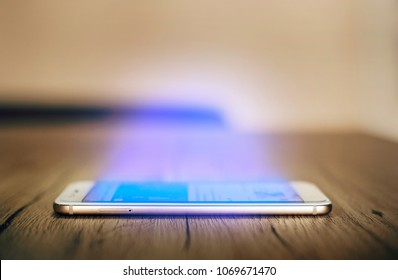Cell Phone: (54, 179, 333, 215)
